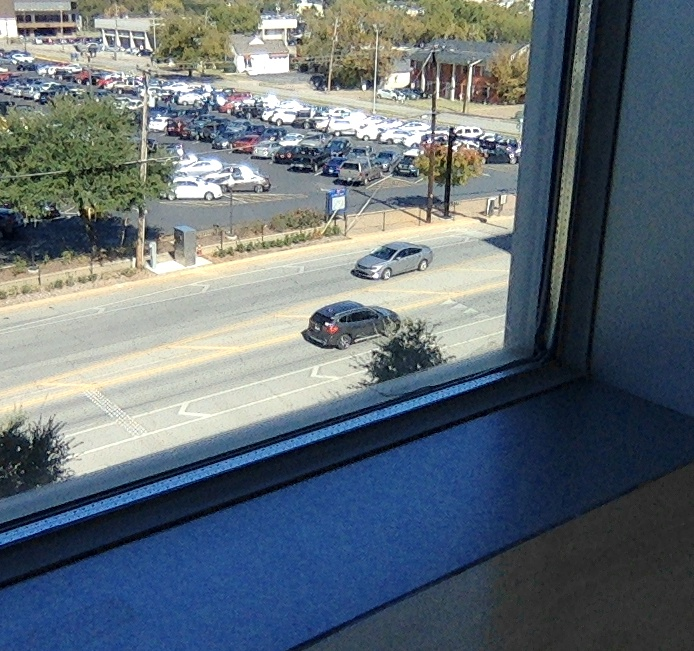car: (300, 300, 394, 351)
